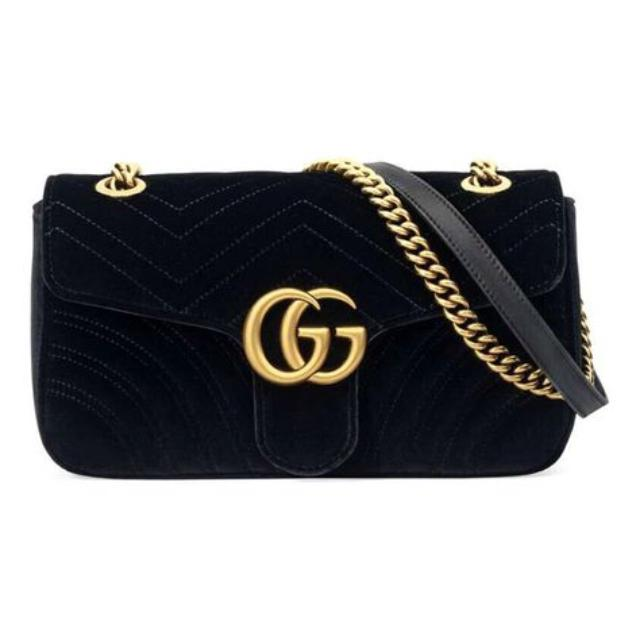Gucci: (240, 280, 374, 390)
